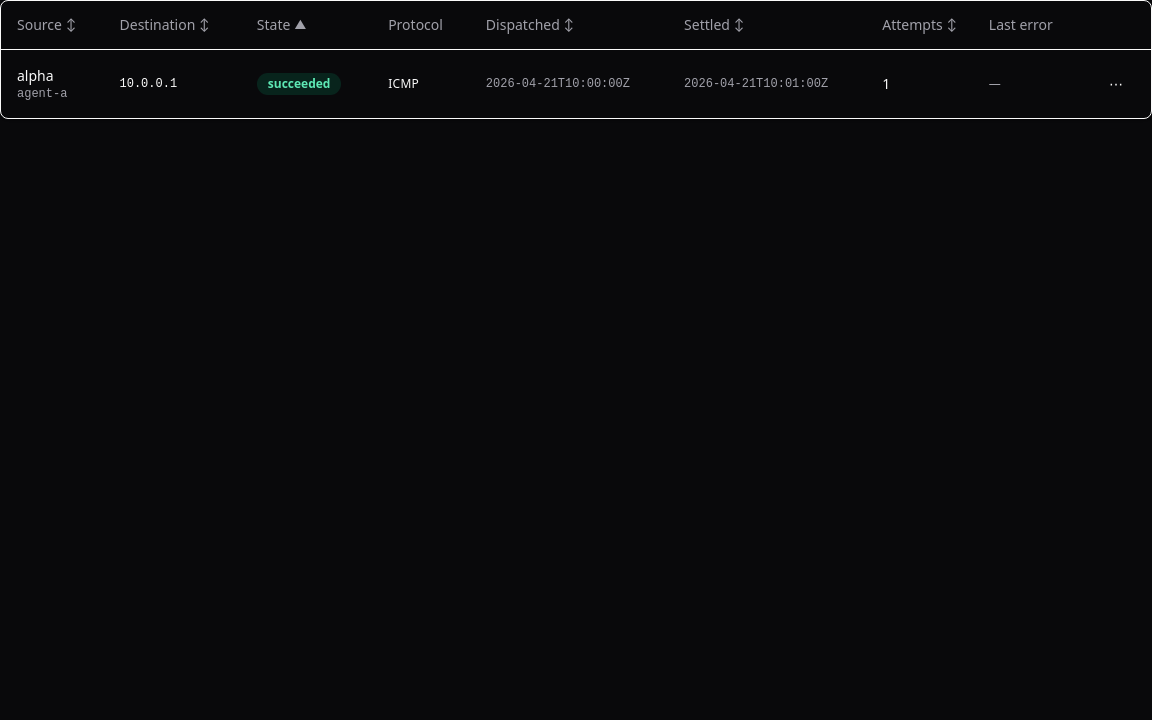
Test case: PairsTab — row actions › illegal_state_transition on force pair surfaces a dedicated toast
Click the button labelled "⋯" at (1116,84), box [1097,66,1135,102]
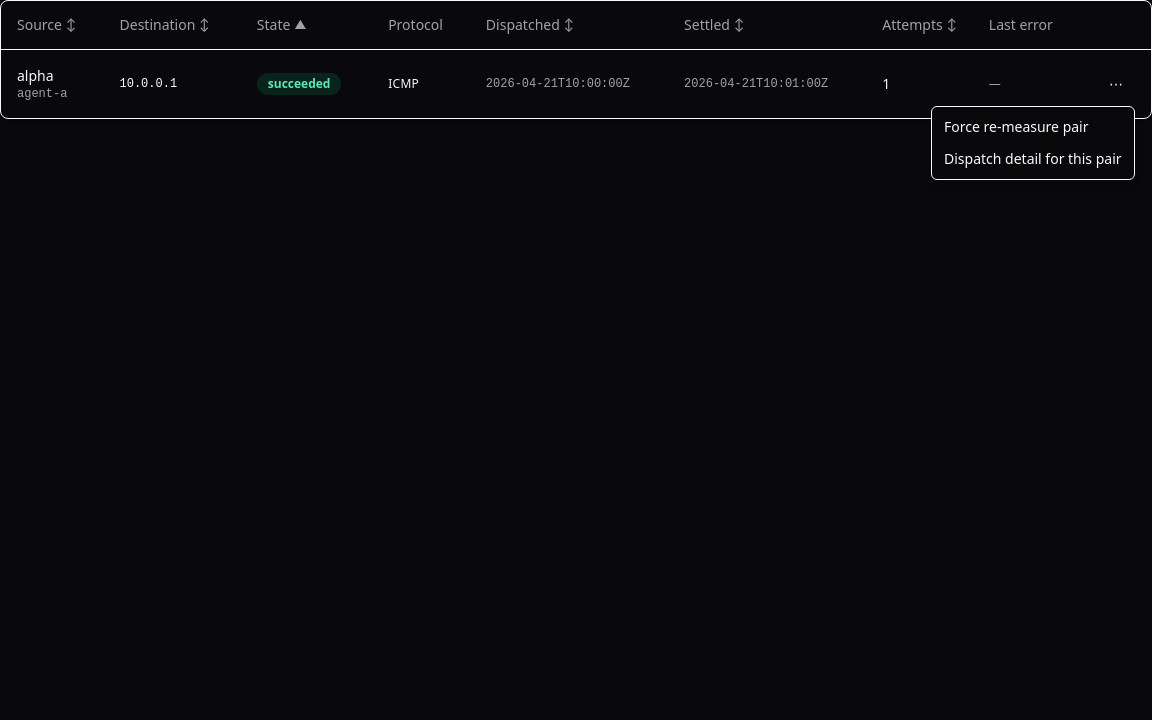
Click the menu item "Force re-measure pair" at (1016,126), box [944,117,1088,136]
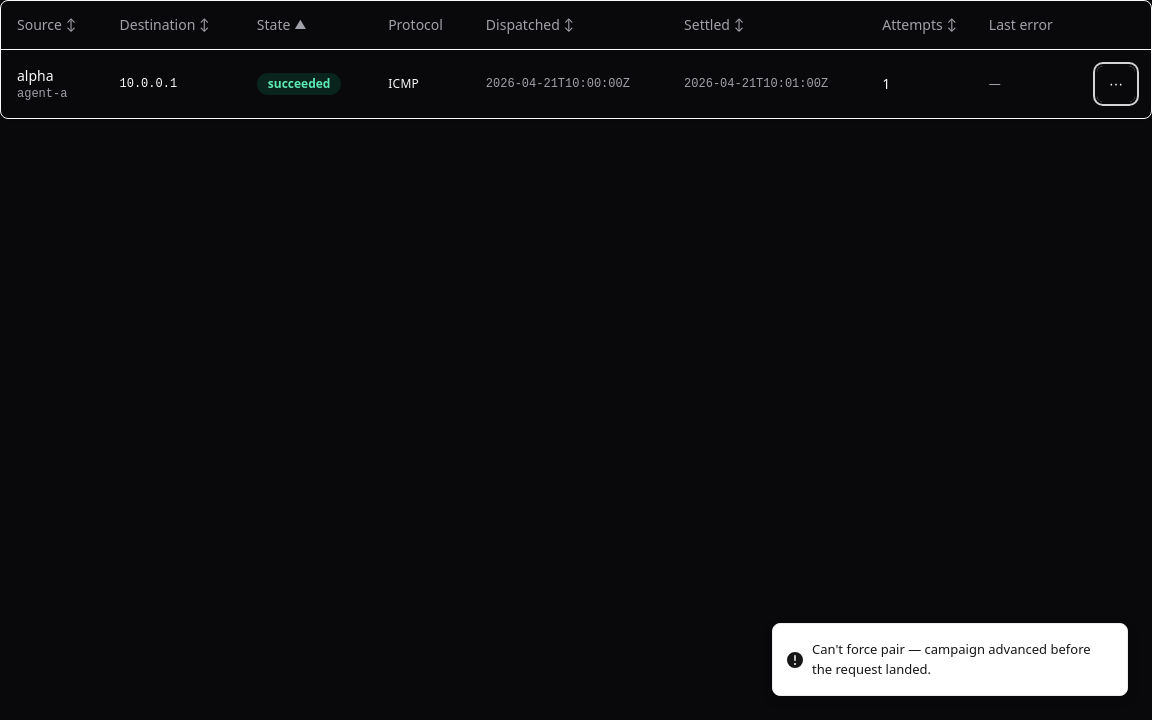
Now the text "campaign advanced before the request landed" is shown, box [812,640,1091,678]
